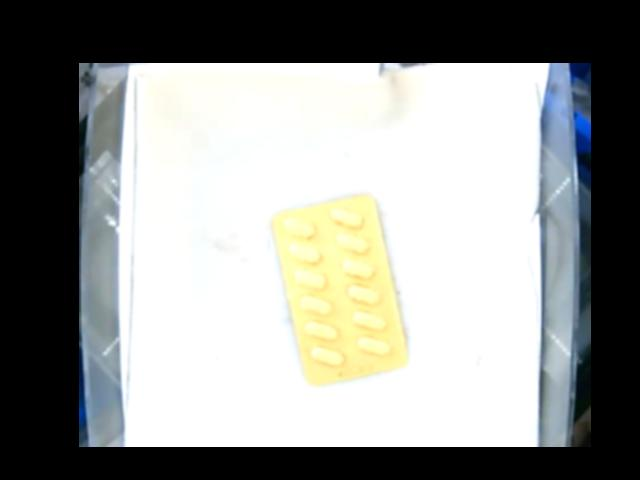Medicine: (270, 191, 409, 388)
